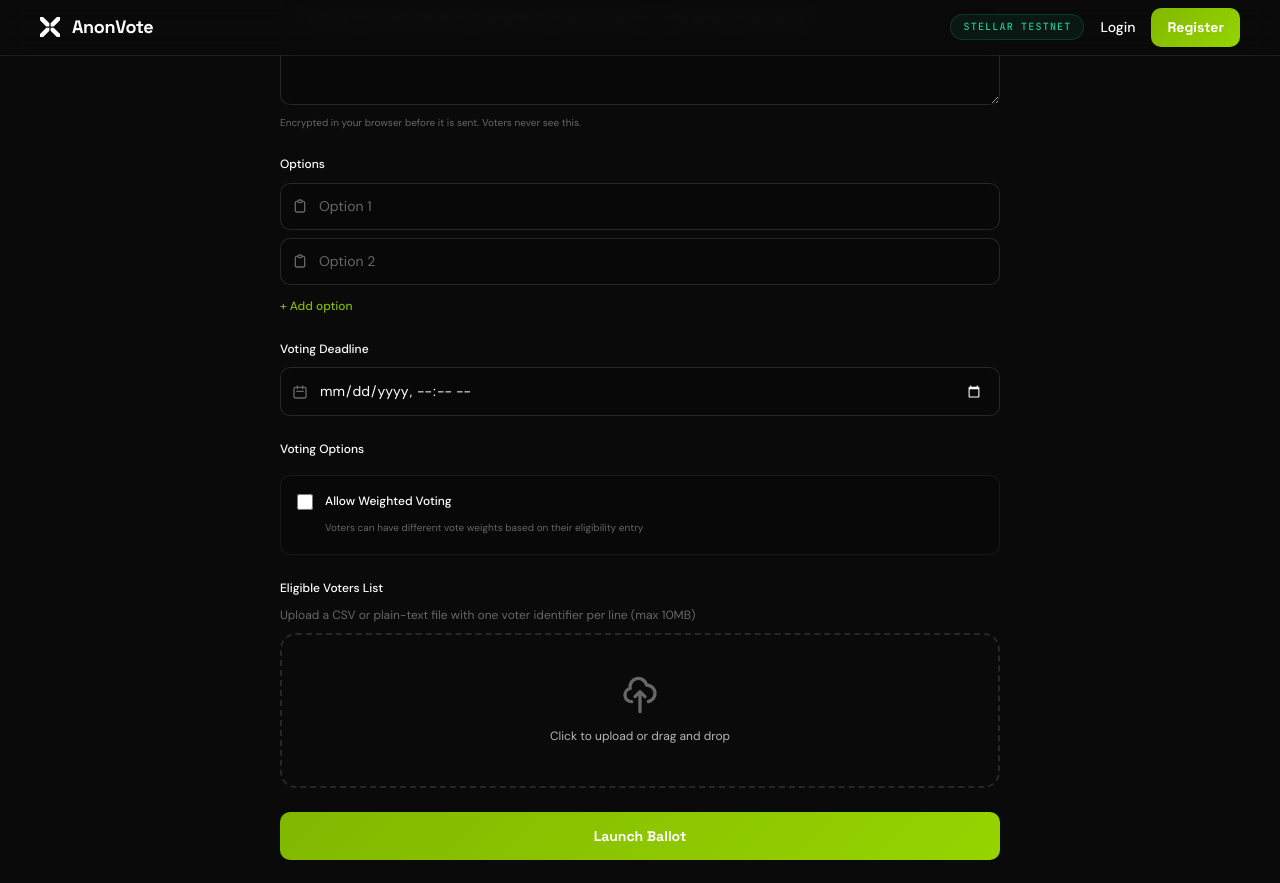
Test: CreateBallotPage › client-side validation for empty fields
This screenshot has width=1280, height=883.
(page scrolled)
Click the button "Launch Ballot" at point(640, 836), box [280,812,1000,860]
(page scrolled)
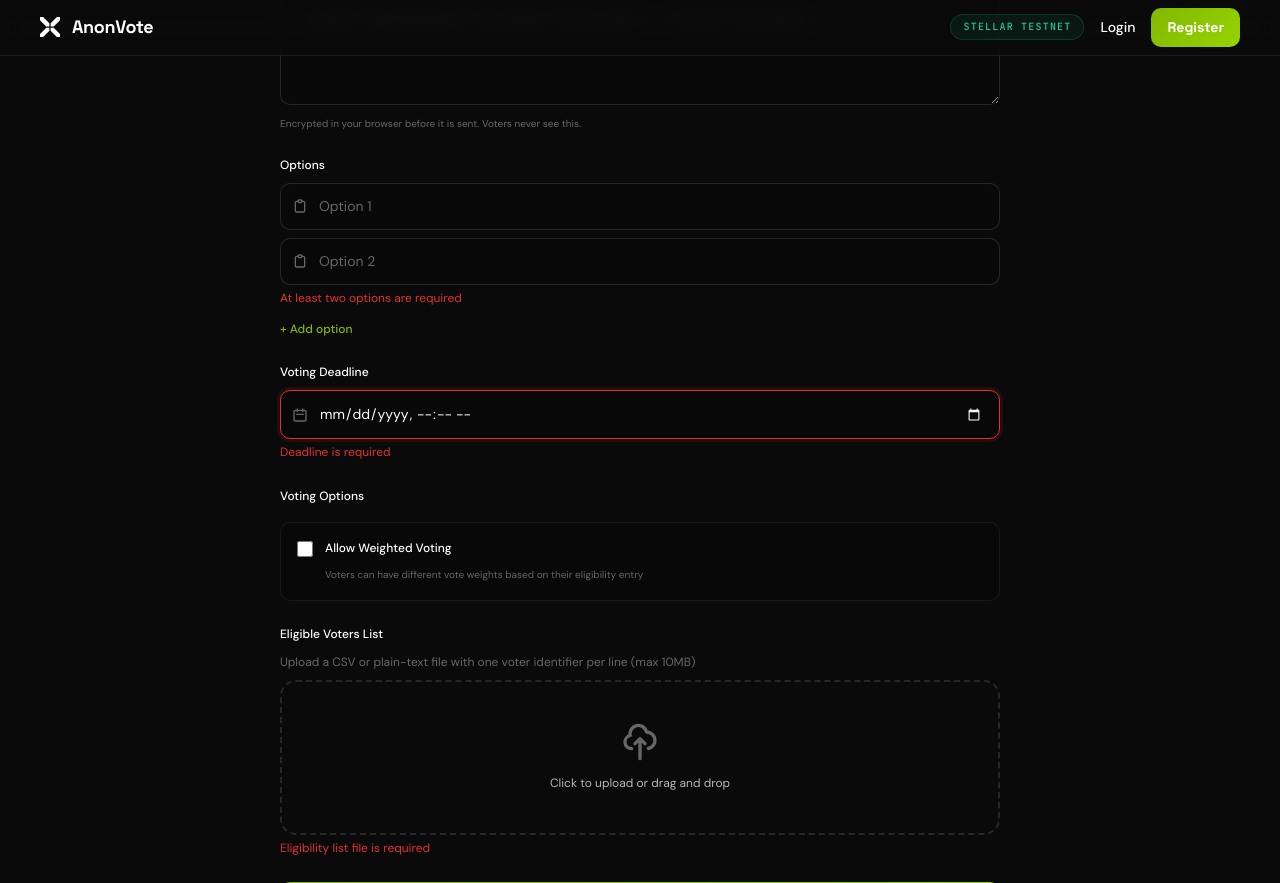
Expected: the text "Deadline is required" is shown, [280,444,390,460]
Expected: the text "Eligibility list file is required" is shown, [280,840,430,856]
